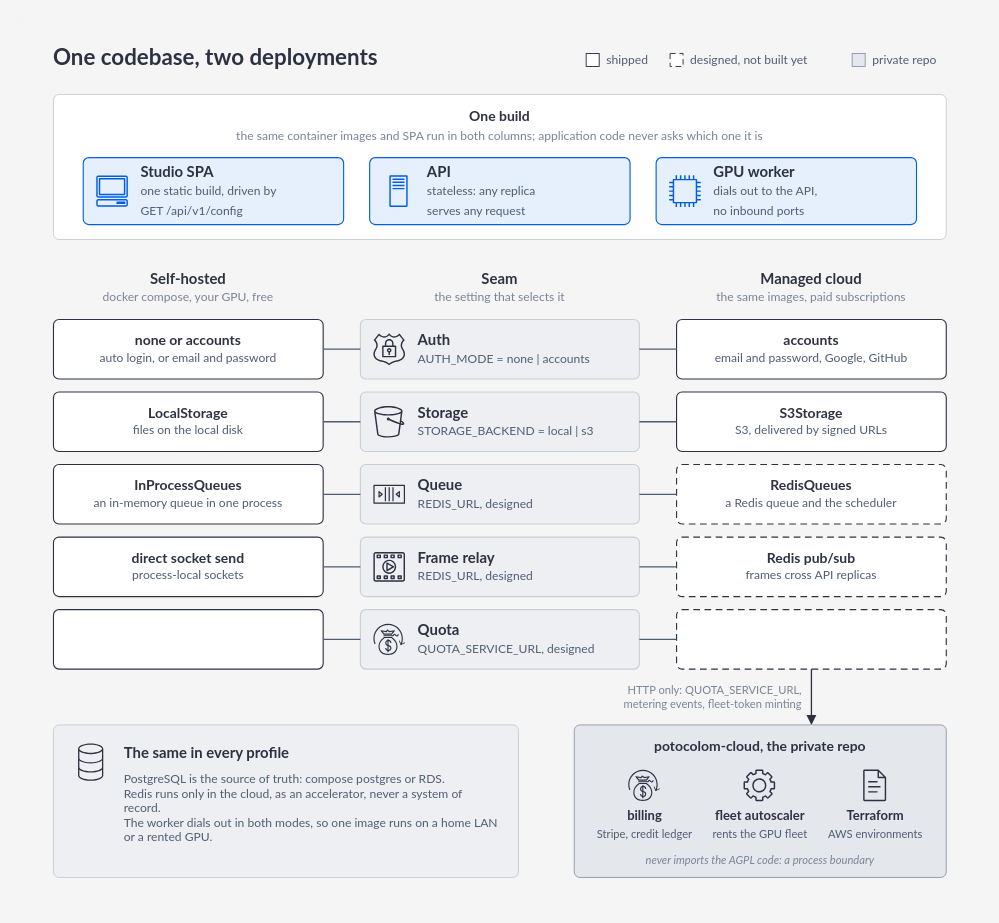
Image size: 999x923. Some labels were removed from this diagram. The shapes that lost their labels are listed below. From the top down, each one's centre as x and y in pixels, then its label:
At [187,639]: "no quota no class: unlimited, no payments".
At [811,639]: "billing service reserve, commit, refund over HTTP".
